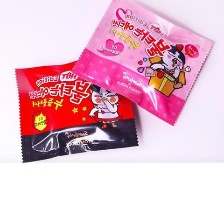snack: (67, 0, 221, 130), (9, 52, 145, 165)
